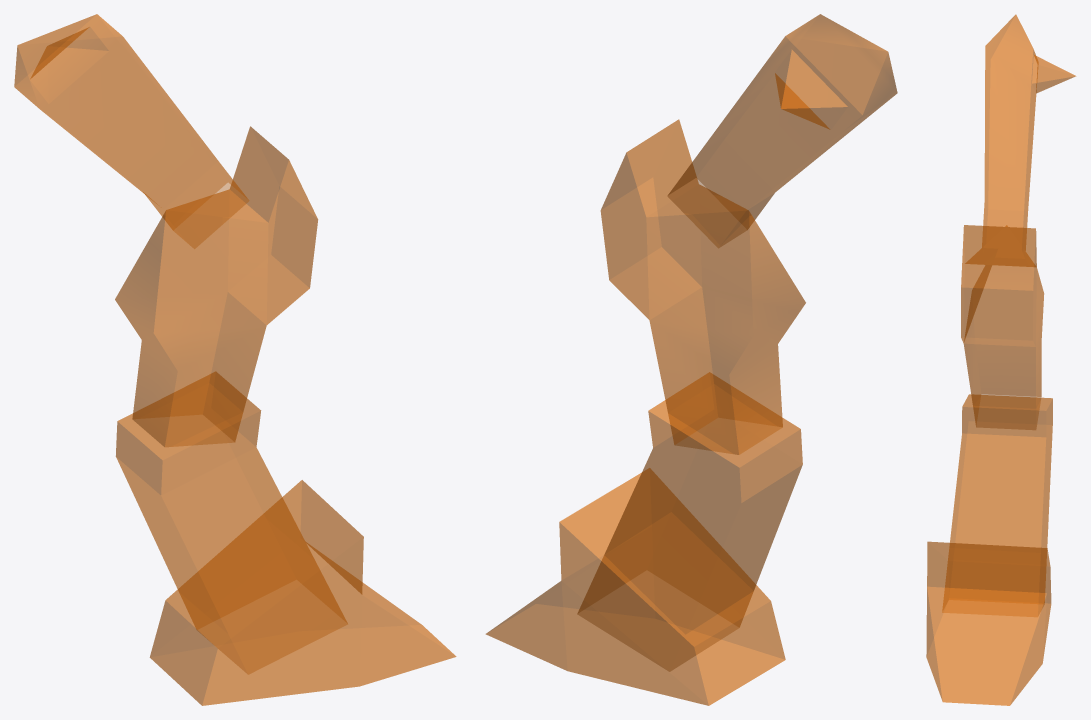
The model's file is scrap_leg.fbx.
3 views of the same model, side by side, from view 1: azimuth 30°, elevation 25°; view 2: azimuth 150°, elevation 25°; view 3: azimuth 270°, elevation 25° (orthographic). The views are drawn at different scales.
Parts seen in each view (by area): view 1: foot_r, heel_r, calf_r, thigh_r; view 2: calf_r, heel_r, foot_r, thigh_r; view 3: heel_r, foot_r, calf_r, thigh_r.
Boxes of the visible parts, x1,y1,x2,y2 form: foot_r: (150,480,456,705); heel_r: (116,372,347,674); calf_r: (115,126,317,446); thigh_r: (14,14,249,248); calf_r: (600,119,805,454); heel_r: (577,372,802,671); foot_r: (486,468,785,705); thigh_r: (667,14,897,247); heel_r: (942,394,1052,616); foot_r: (926,541,1051,705); calf_r: (961,225,1043,429); thigh_r: (982,14,1075,250).
Size of the model in its own units: 3.05 by 4.92 by 1.24.
